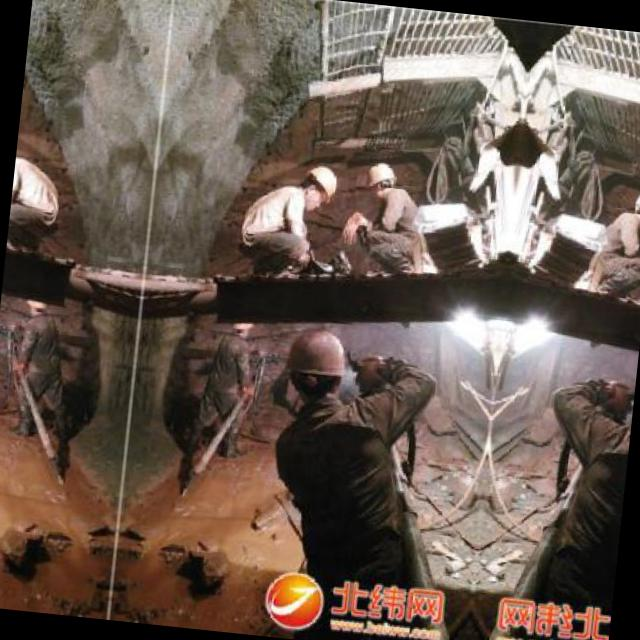helmet: (276, 324, 351, 406), (292, 159, 336, 210), (361, 158, 402, 200), (625, 186, 640, 228)
